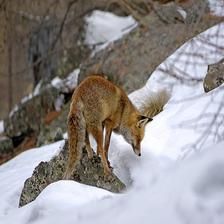fox: (65, 74, 153, 187)
